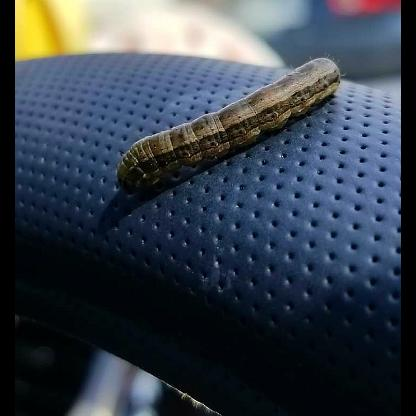Fall Armyworm Larvae: (114, 48, 350, 200)
